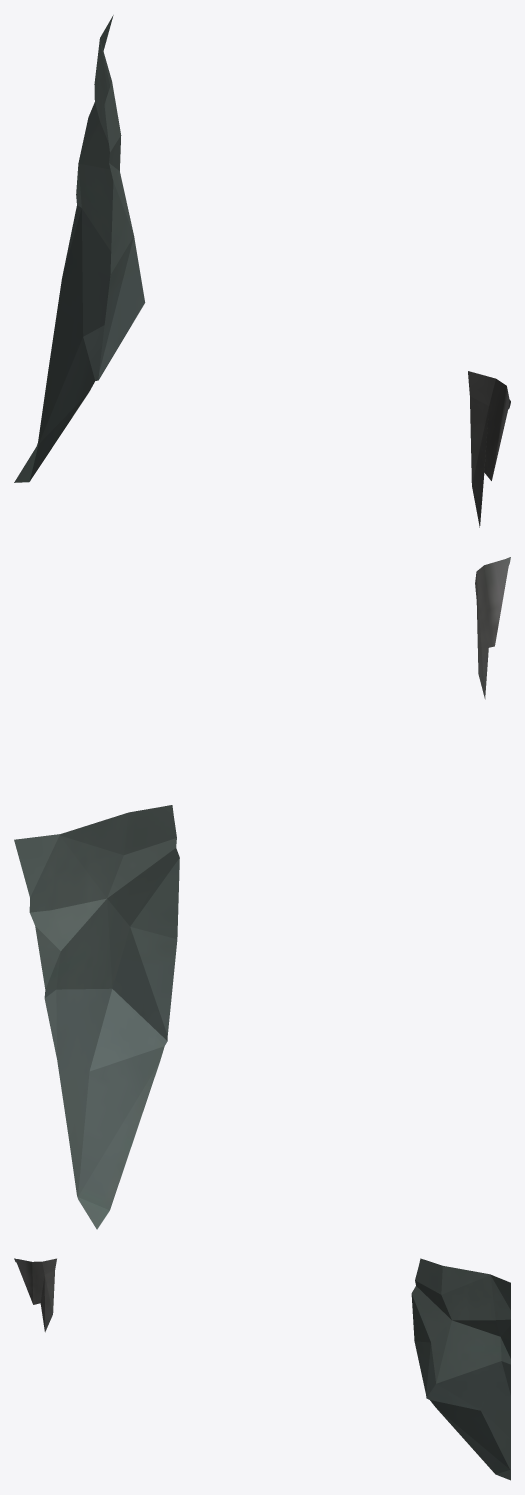
3 views of the same model, one above another, from view 1: azimuth 30°, elevation 25°; view 2: azimuth 150°, elevation 25°; view 3: azimuth 270°, elevation 25° (orthographic). The views are drawn at different scales.
Bounding box in the file's own units: 0.0462 × 0.1966 × 0.3987.
Materials: 1 (1 with a texture image).
